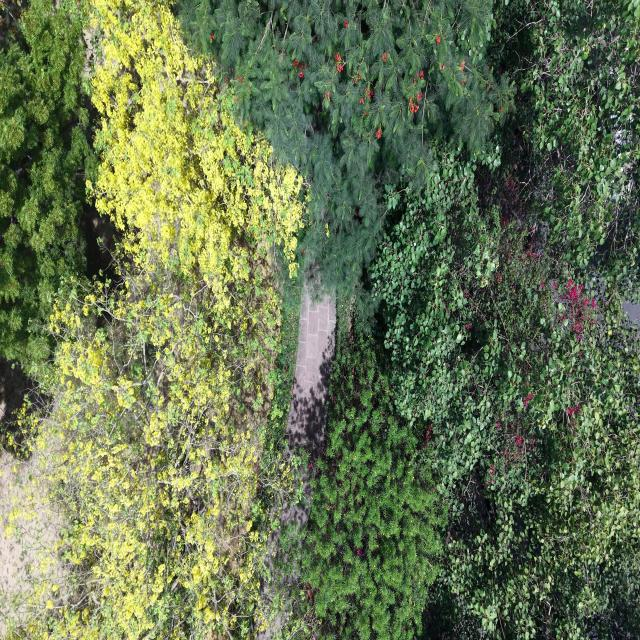DRY_AREA: (0, 452, 64, 637), (0, 450, 61, 637), (0, 452, 61, 637), (0, 453, 60, 637), (287, 290, 335, 459), (288, 291, 336, 459), (0, 451, 32, 636), (0, 452, 30, 637), (0, 359, 36, 431), (623, 303, 639, 322)
PATHWAYS: (287, 289, 335, 459), (287, 291, 335, 457)
VEGETATION_TREE: (0, 0, 639, 639), (14, 0, 303, 638), (372, 3, 639, 637), (372, 156, 639, 637), (179, 0, 513, 290), (300, 300, 444, 639), (491, 2, 639, 299), (518, 2, 639, 298), (0, 0, 89, 364)
